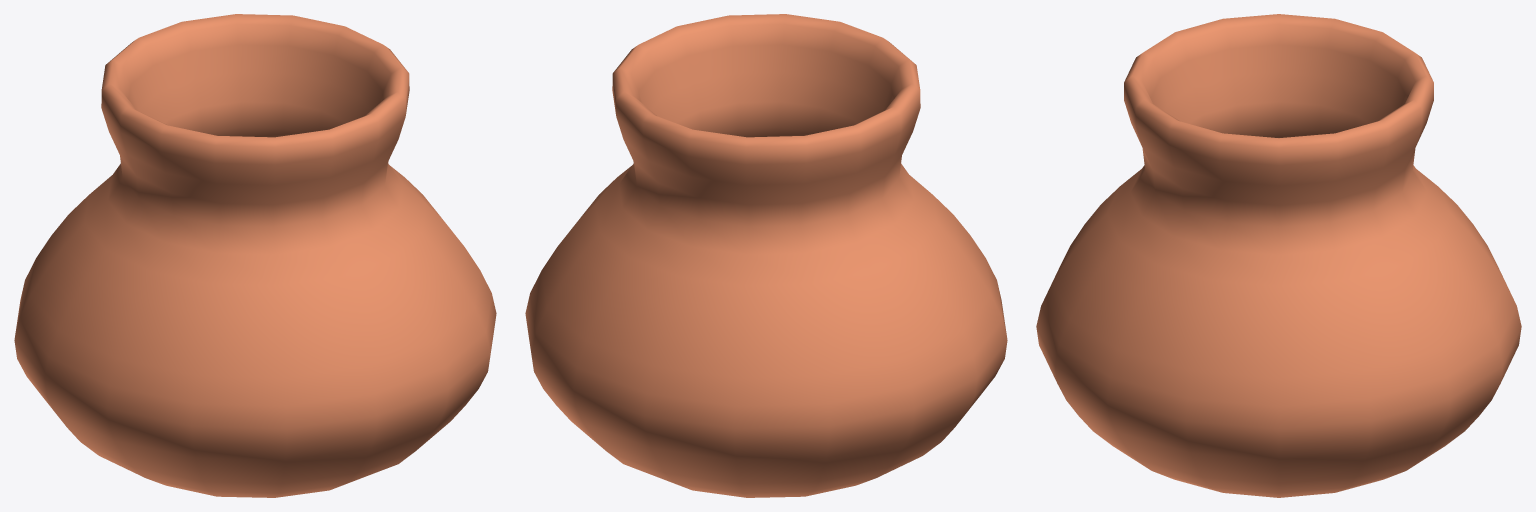
File: Vase_01.fbx
3 views of the same model, side by side, from view 1: azimuth 30°, elevation 25°; view 2: azimuth 150°, elevation 25°; view 3: azimuth 270°, elevation 25° (orthographic).
Visible parts, largest first — view 1: Cylinder; view 2: Cylinder; view 3: Cylinder.
Boxes of the visible parts, left/top/right/bottom form: Cylinder: left=14, top=14, right=496, bottom=497; Cylinder: left=525, top=14, right=1007, bottom=497; Cylinder: left=1036, top=14, right=1521, bottom=497.
Bounding box in the file's own units: 78.65 × 67.76 × 78.65.
